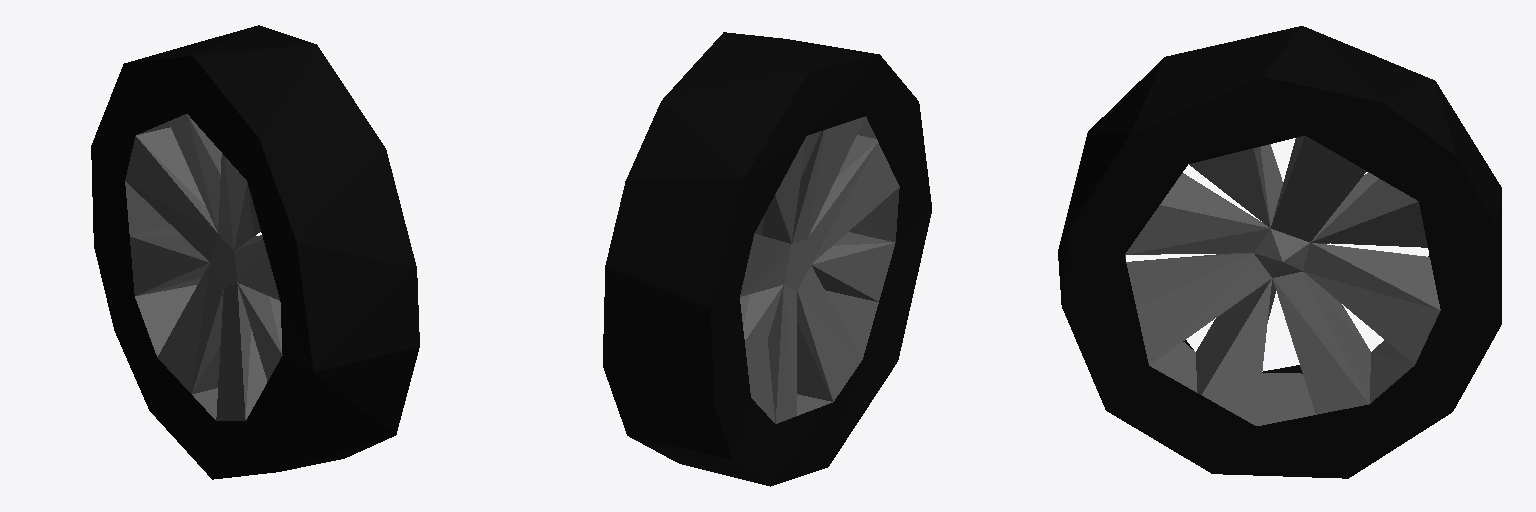
File: corvette_wheel.obj
3 renders of one model, left to right at view 1: azimuth 30°, elevation 25°; view 2: azimuth 150°, elevation 25°; view 3: azimuth 270°, elevation 25°, orthographic.
Parts seen in each view (by area): view 1: Cylinder.003; view 2: Cylinder.003; view 3: Cylinder.003.
Part boxes in pixels (bbox=[...]): Cylinder.003: bbox=[91, 25, 419, 479]; Cylinder.003: bbox=[603, 32, 931, 486]; Cylinder.003: bbox=[1058, 26, 1501, 478].
Size of the model in its own units: 0.3943 by 1.4 by 1.37.